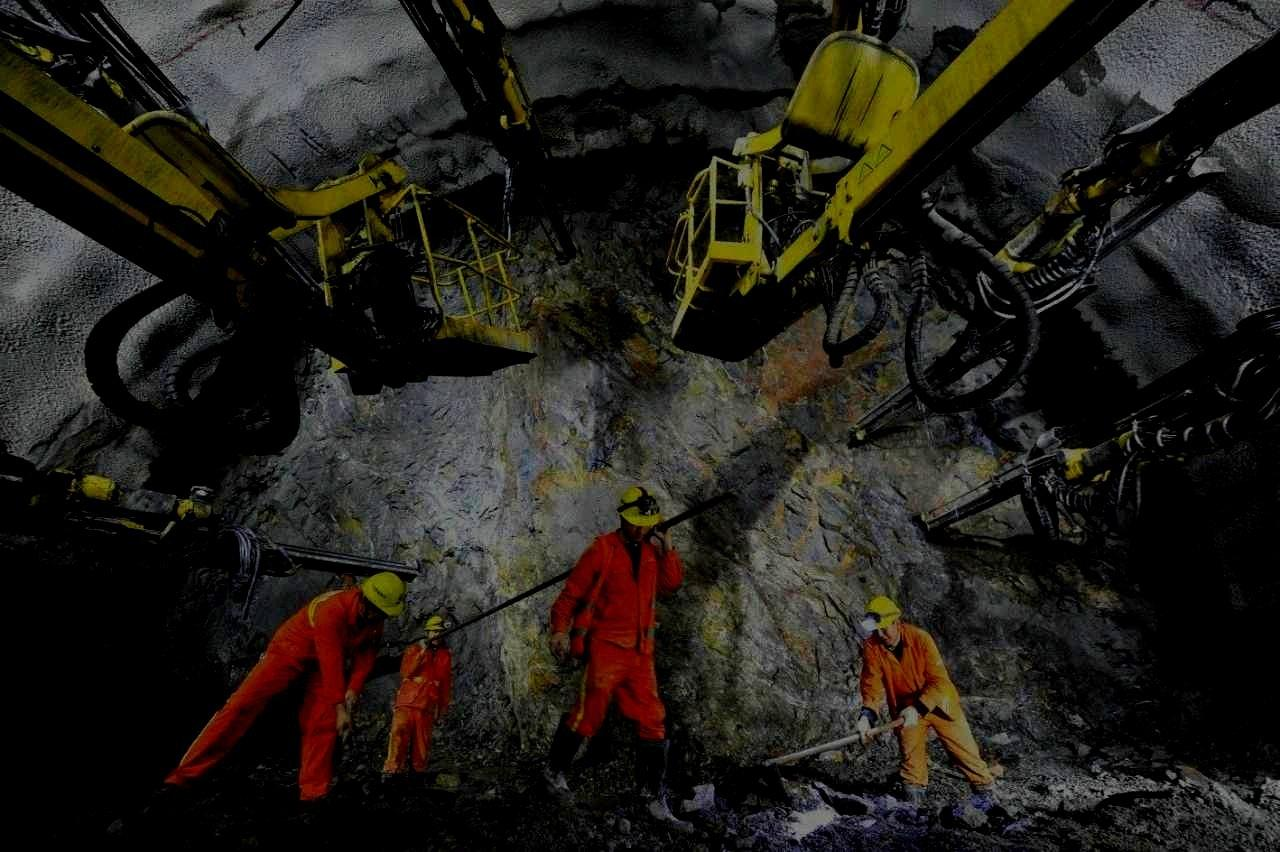helmet: (616, 485, 662, 543), (359, 571, 405, 625), (863, 594, 902, 646), (423, 615, 447, 645)
